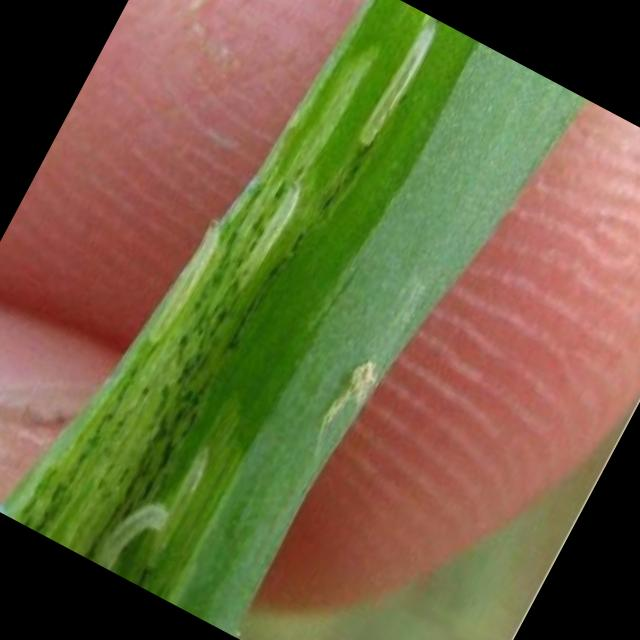whorl-maggot: (344, 11, 450, 164), (131, 422, 234, 576), (144, 206, 236, 350), (227, 167, 314, 296), (90, 475, 180, 584)
